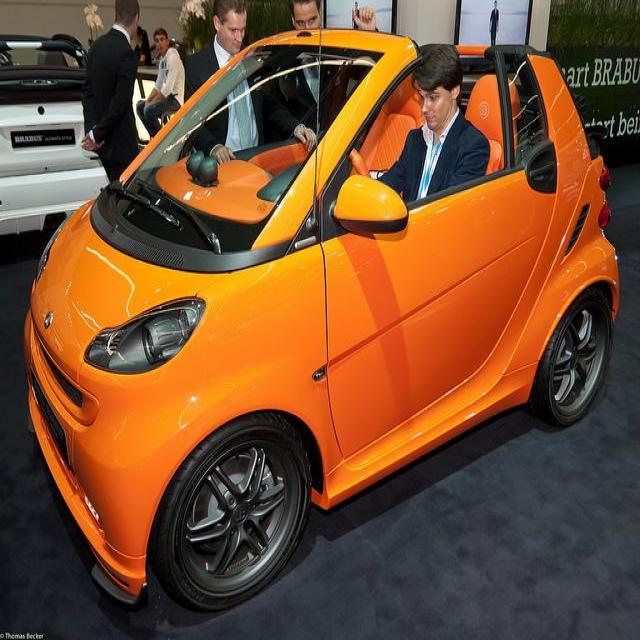Car: (26, 51, 625, 577)
